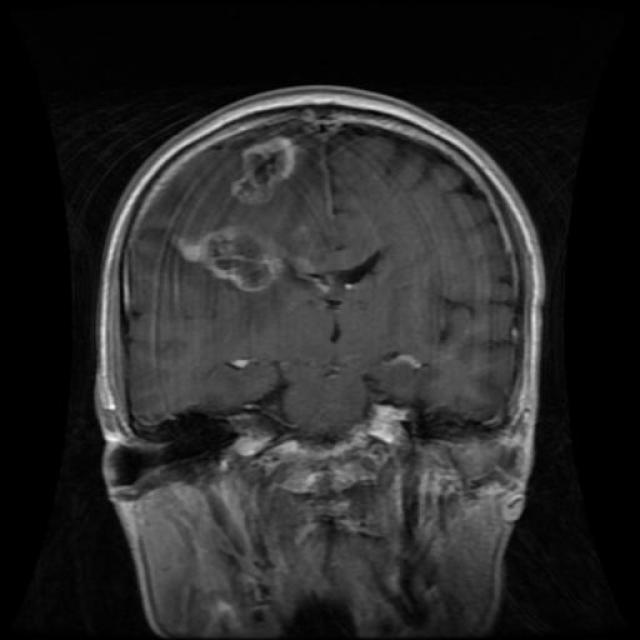glioma: (168, 222, 288, 292)
